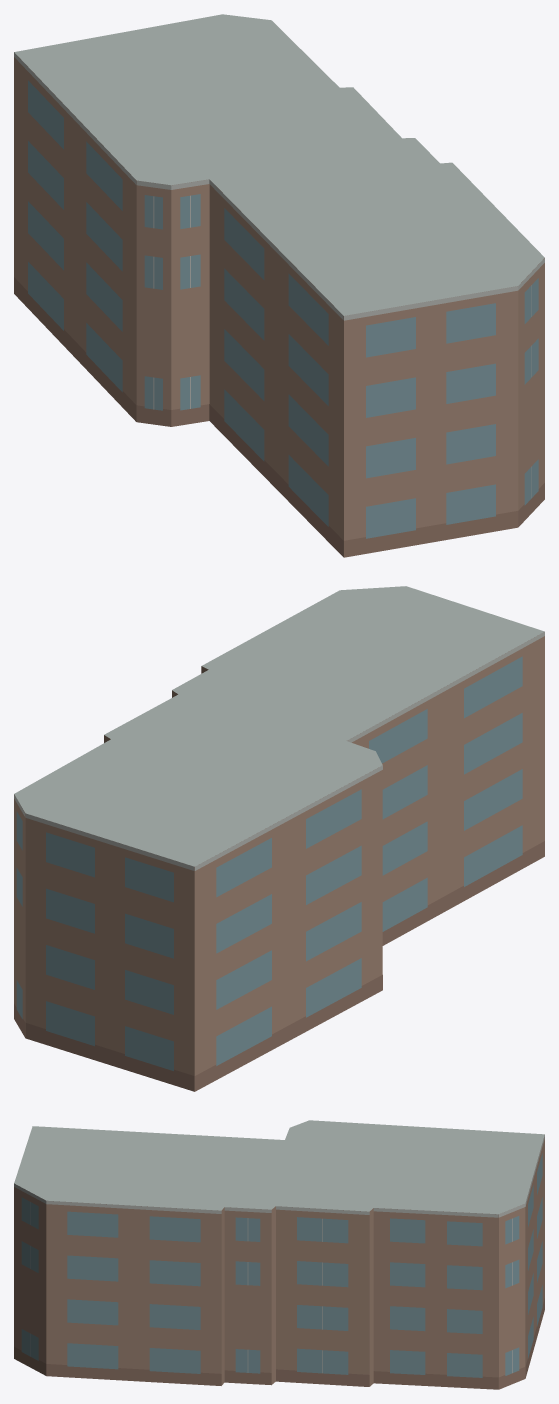
Rendered from survey-upis-32852617.glb.
The picture shows the model from 3 angles, top to bottom: view 1: azimuth 30°, elevation 25°; view 2: azimuth 150°, elevation 25°; view 3: azimuth 270°, elevation 25°; orthographic projection. The views are drawn at different scales.
Visible parts, largest first — view 1: survey-upis-32852617.tmp; view 2: survey-upis-32852617.tmp; view 3: survey-upis-32852617.tmp.
Boxes of the visible parts, box(x1,y1,x2,y2) form: survey-upis-32852617.tmp: box(14, 14, 544, 557); survey-upis-32852617.tmp: box(14, 586, 544, 1091); survey-upis-32852617.tmp: box(14, 1120, 544, 1389).
Size of the model in its own units: 14.27 by 12.4 by 34.01.
